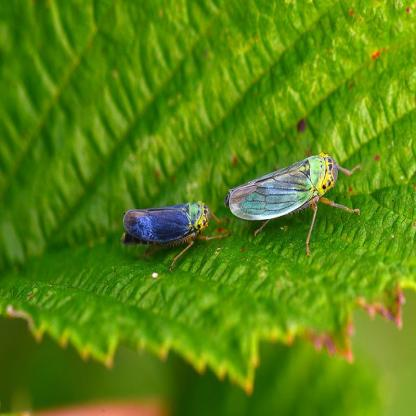Green-Leafhopper: (221, 150, 360, 252), (120, 195, 228, 268)
